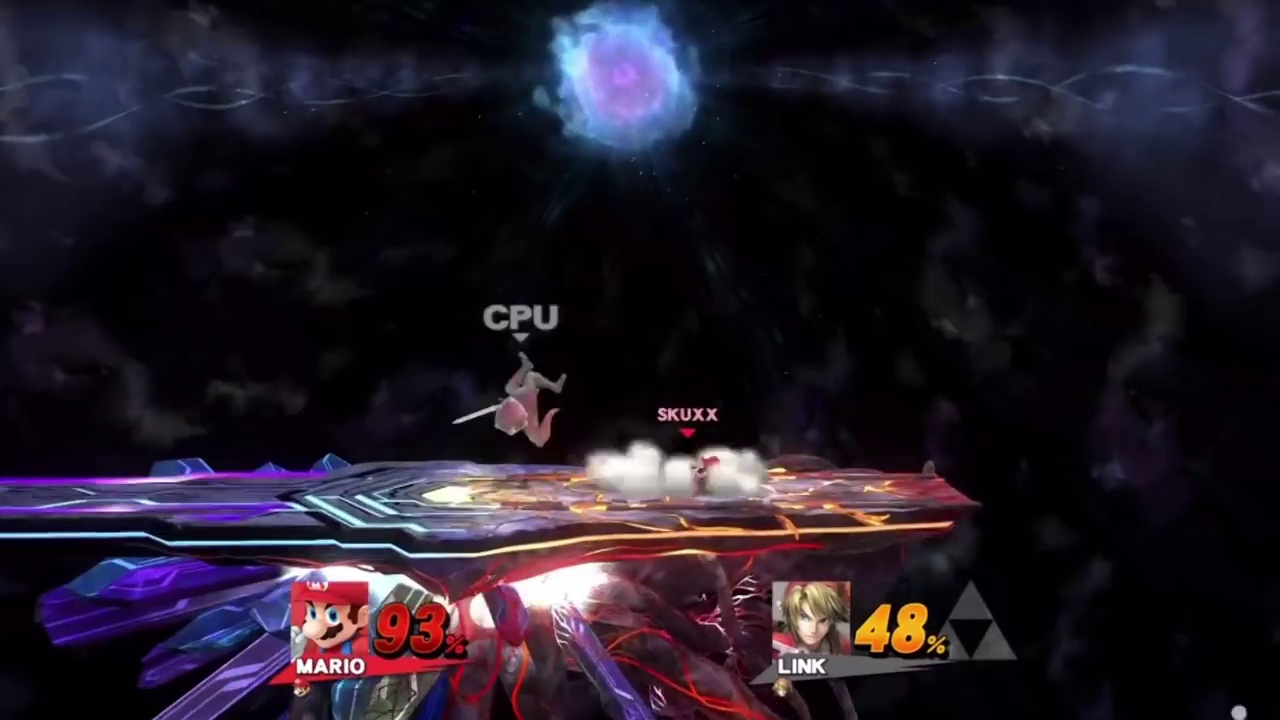Mario: (668, 456, 722, 475)
